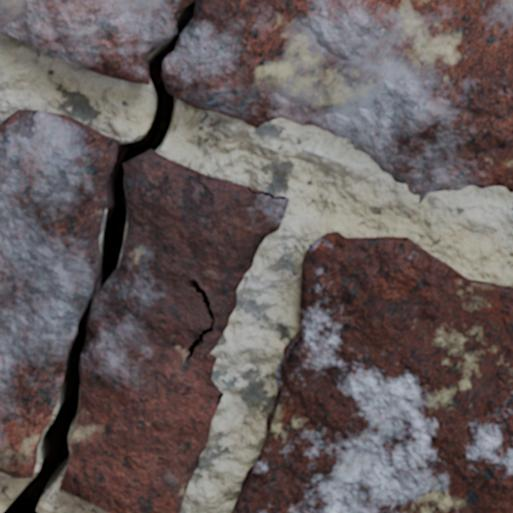brick: (232, 232, 512, 512)
broken_brick: (59, 152, 289, 512), (164, 0, 512, 203), (0, 109, 118, 478), (0, 0, 192, 84), (251, 187, 260, 190)
crack: (0, 0, 196, 512), (245, 186, 286, 199), (216, 392, 223, 407)
